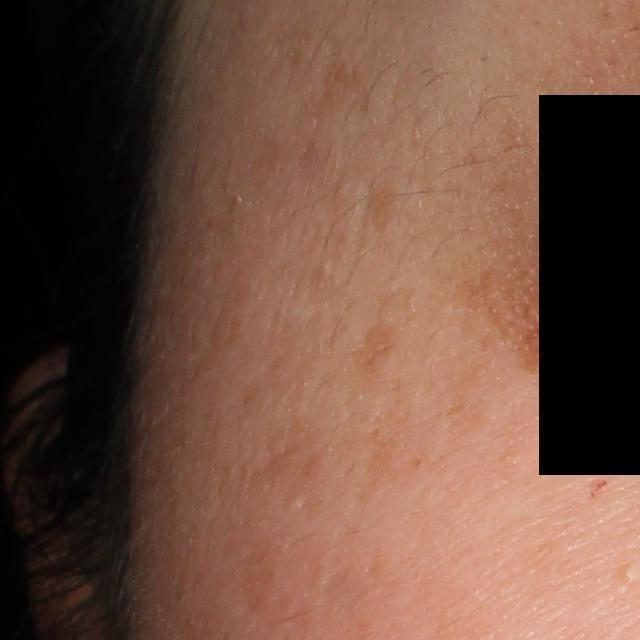melasma: (456, 268, 592, 369), (348, 323, 398, 383), (361, 176, 400, 241)
